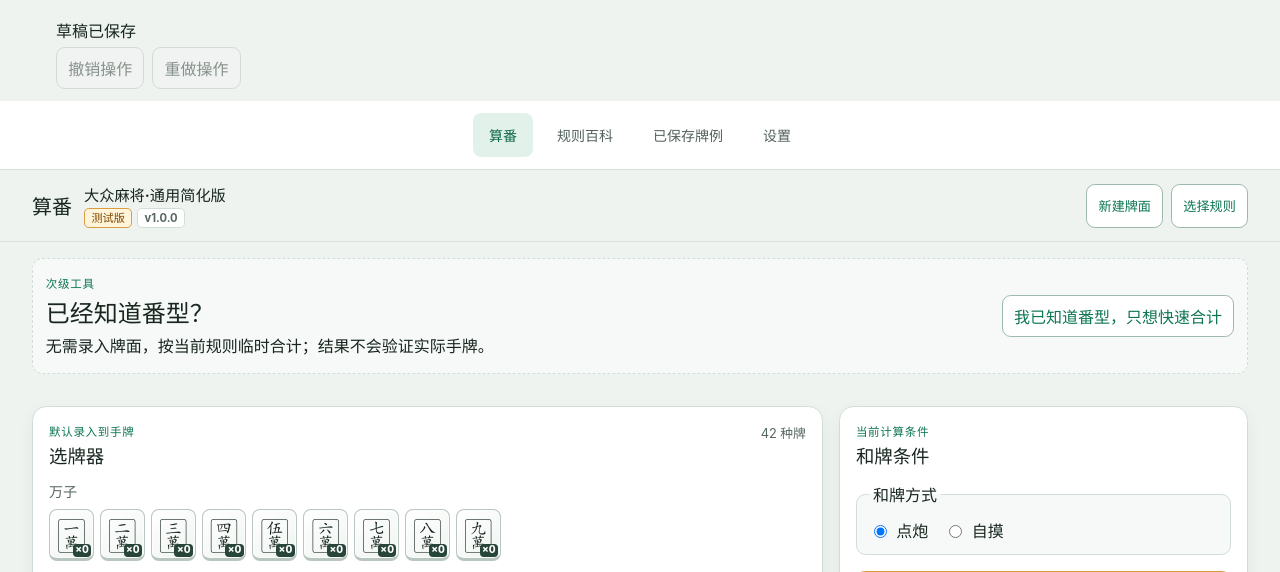
Test: main routes › navigates to all four page shells
Click the link "算番" at (503, 135), box [473,113,533,157]
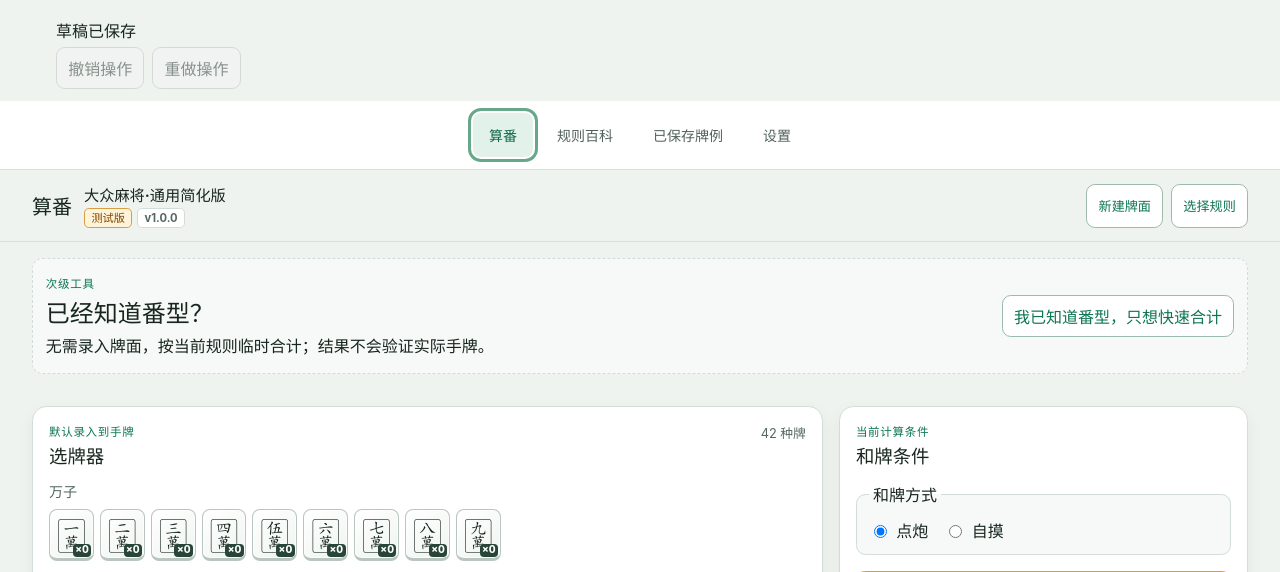
Expected: the heading "算番" is shown, [32,191,72,220]
Click the link "规则百科" at (585, 136), box [557,127,613,144]
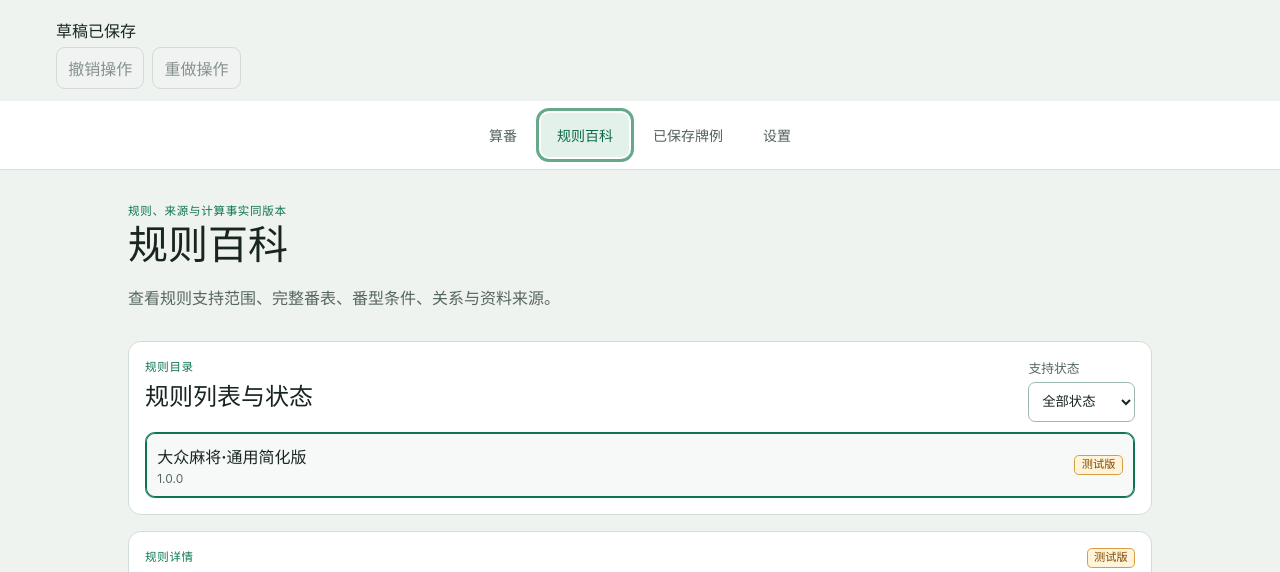
Expected: the heading "规则百科" is shown, [128,220,288,269]
Click the link "已保存牌例" at (688, 136), box [653,127,723,144]
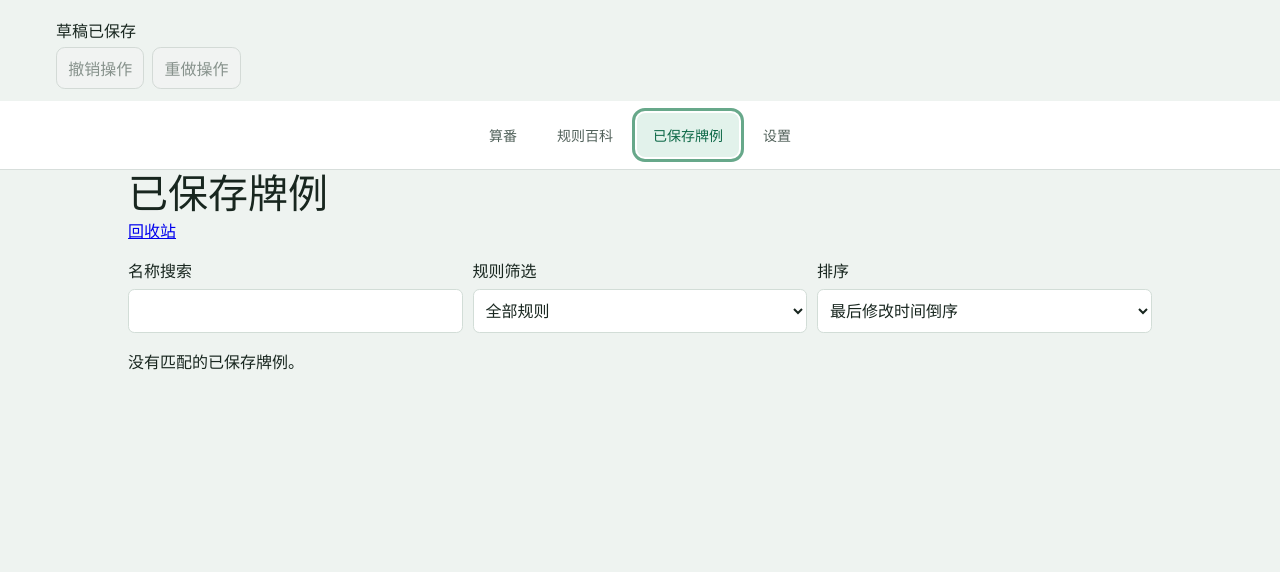
Expected: the heading "已保存牌例" is shown, [128,169,328,218]
Click the link "设置" at (777, 136), box [763,127,791,144]
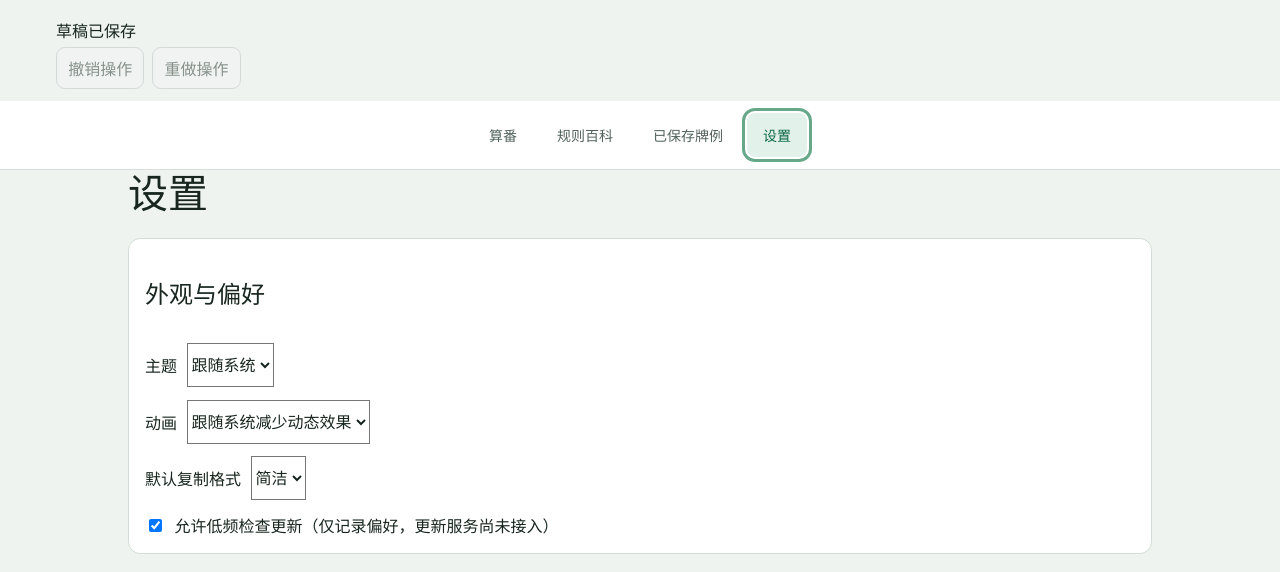
Expected: the heading "设置" is shown, [128,169,208,218]
